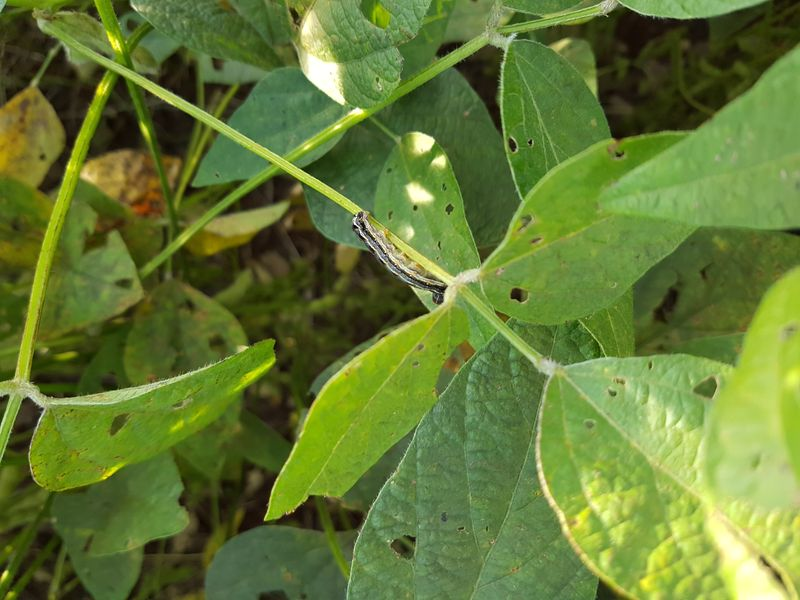Spodoptera_albula: (331, 201, 467, 316)
